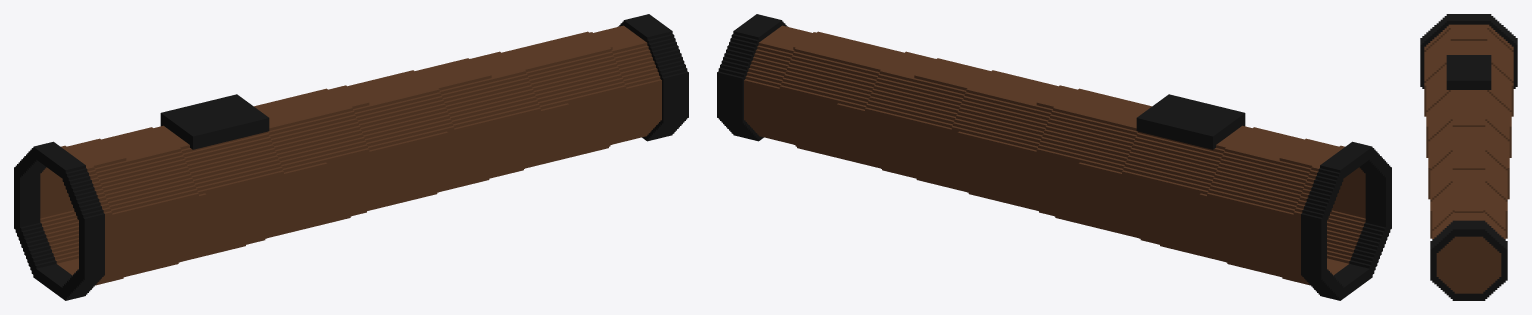
Rendered from quiver.glb.
3 renders of one model, left to right at view 1: azimuth 30°, elevation 25°; view 2: azimuth 150°, elevation 25°; view 3: azimuth 270°, elevation 25°, orthographic. The views are drawn at different scales.
Visible parts, largest first — view 1: quiver:compound; view 2: quiver:compound; view 3: quiver:compound.
Part boxes in pixels (x1,y1,x2,y2): quiver:compound: (14, 14, 688, 300); quiver:compound: (717, 14, 1391, 300); quiver:compound: (1420, 14, 1517, 300).
Bounding box in the file's own units: 0.48 × 0.1 × 0.096.
